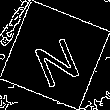N_NW: (27, 24, 83, 86)
